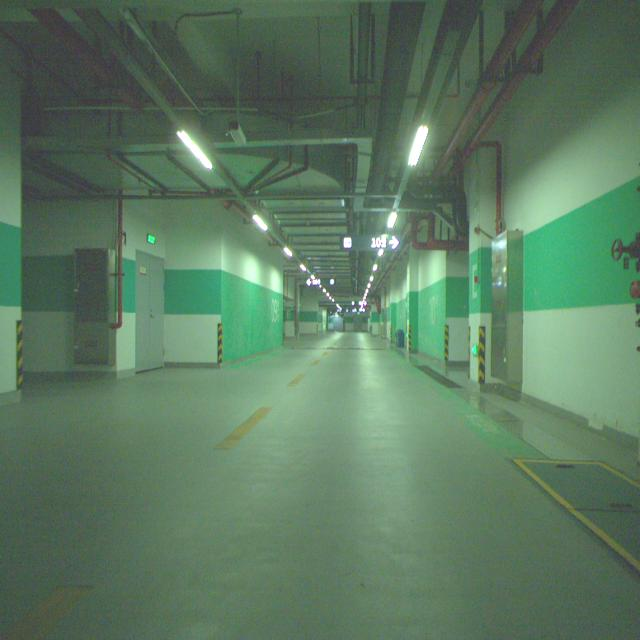wall: (466, 160, 492, 392)
